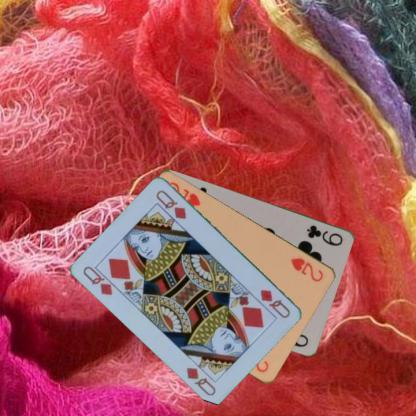2h: (288, 255, 325, 283)
9c: (304, 222, 344, 247)
Qd: (80, 263, 122, 297), (257, 286, 292, 320)
